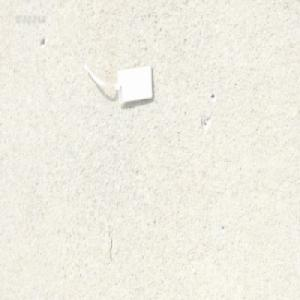LuggageTag: (82, 59, 154, 105)
